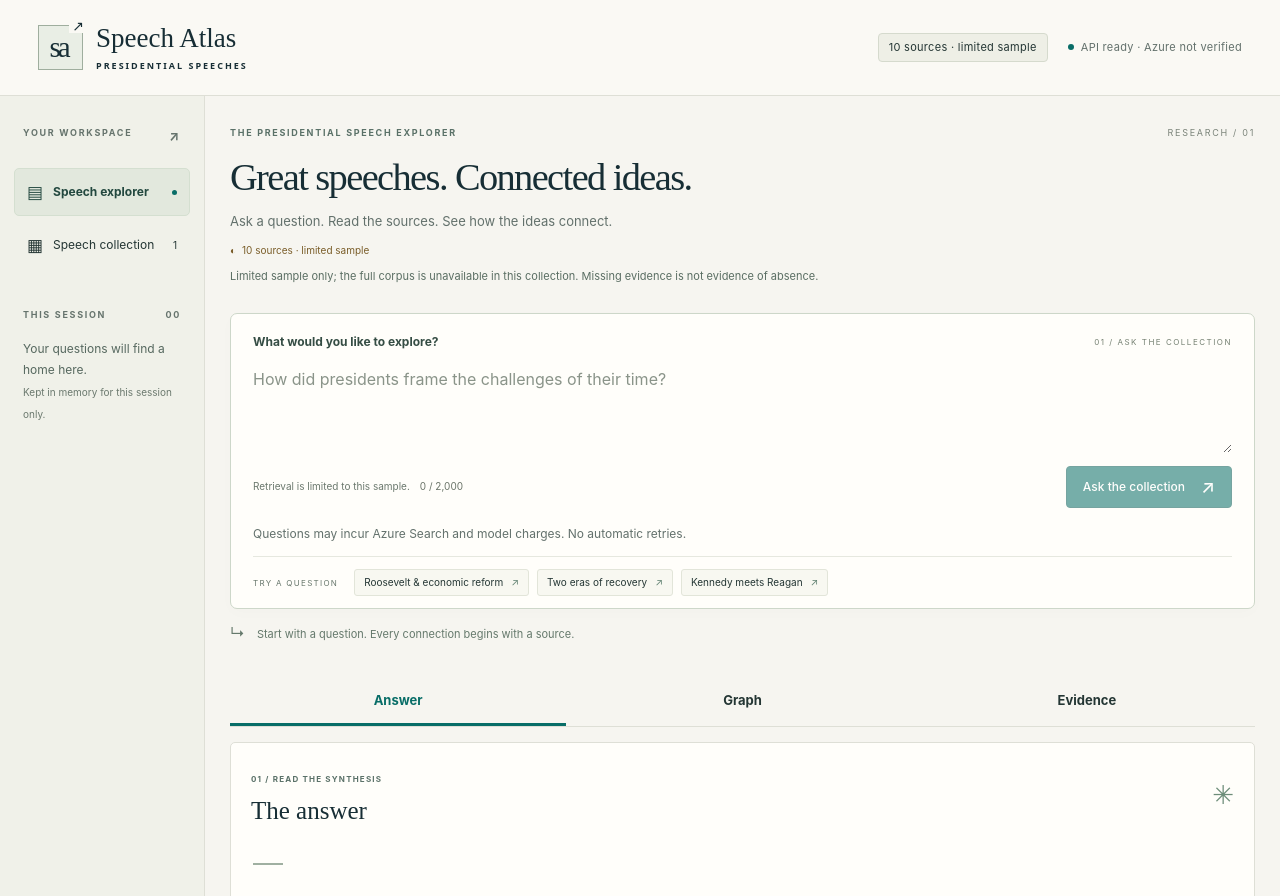
Test: research workspace › keeps partial answers and empty graph explicit
Type "How are the test topics connected?" into the text box labelled "What would you like to explore?".
click(742, 402); type("How are the test topics connected?")  # box [253,352,1232,453]
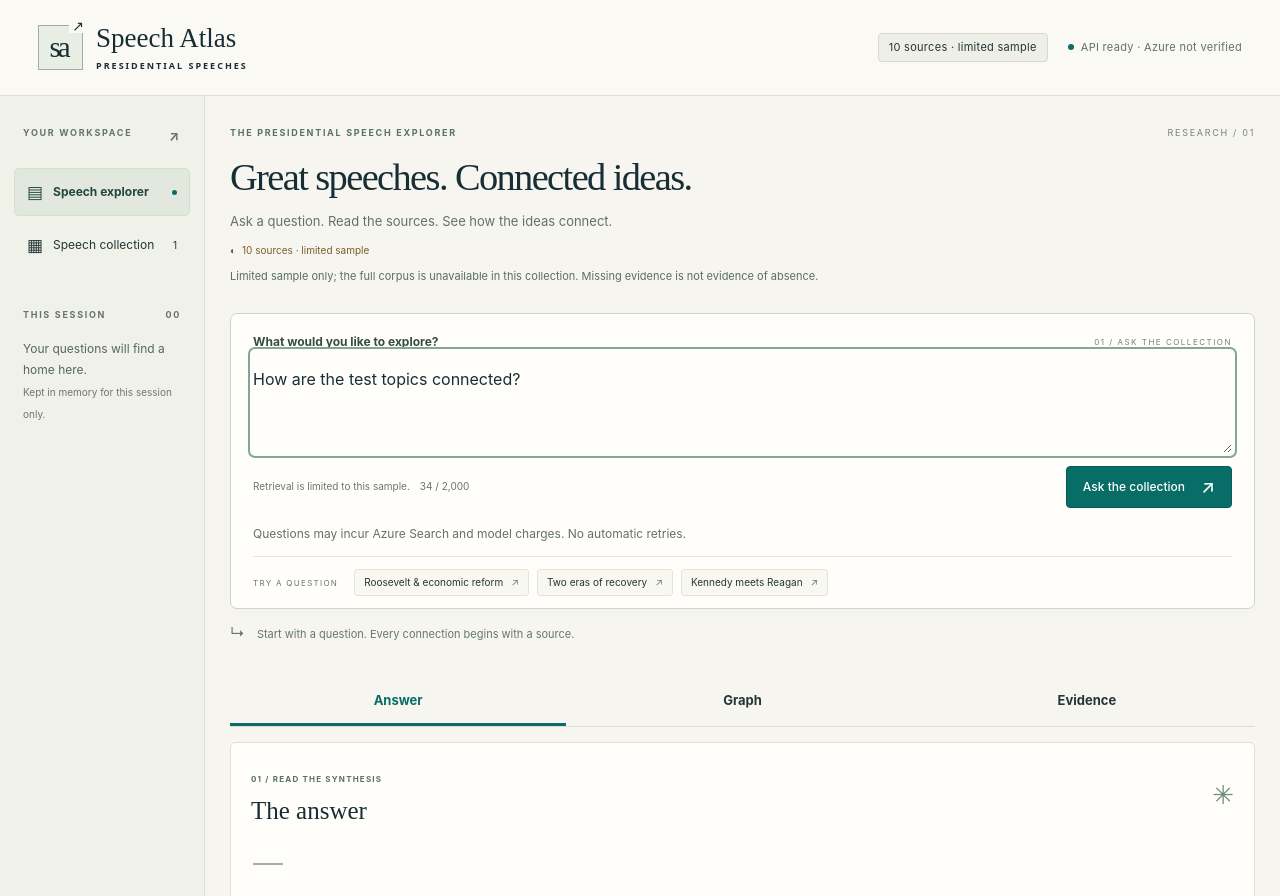
Click the button "Ask the collection ↗".
click(1149, 487)  # box [1066,466,1232,508]
(page scrolled)
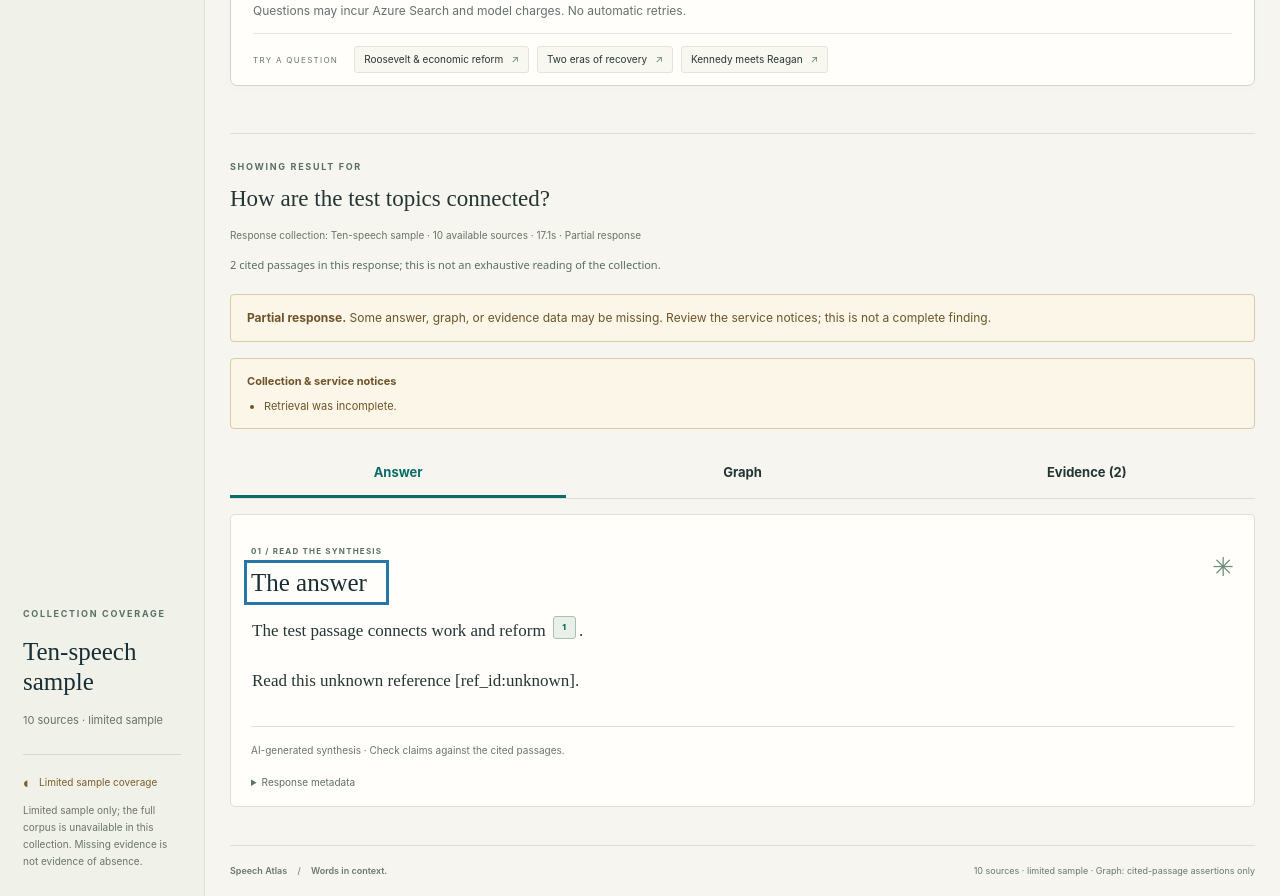
Expected: the text "The test passage connects work and reform 1 ." is shown, [252,616,583,640]
Expected: the text "Partial response." is shown, [247,310,346,324]
Expected: the list item "Retrieval was incomplete." is shown, [264,399,397,413]
Click the tab "Graph".
click(742, 474)  # box [574,449,911,498]
(page scrolled)
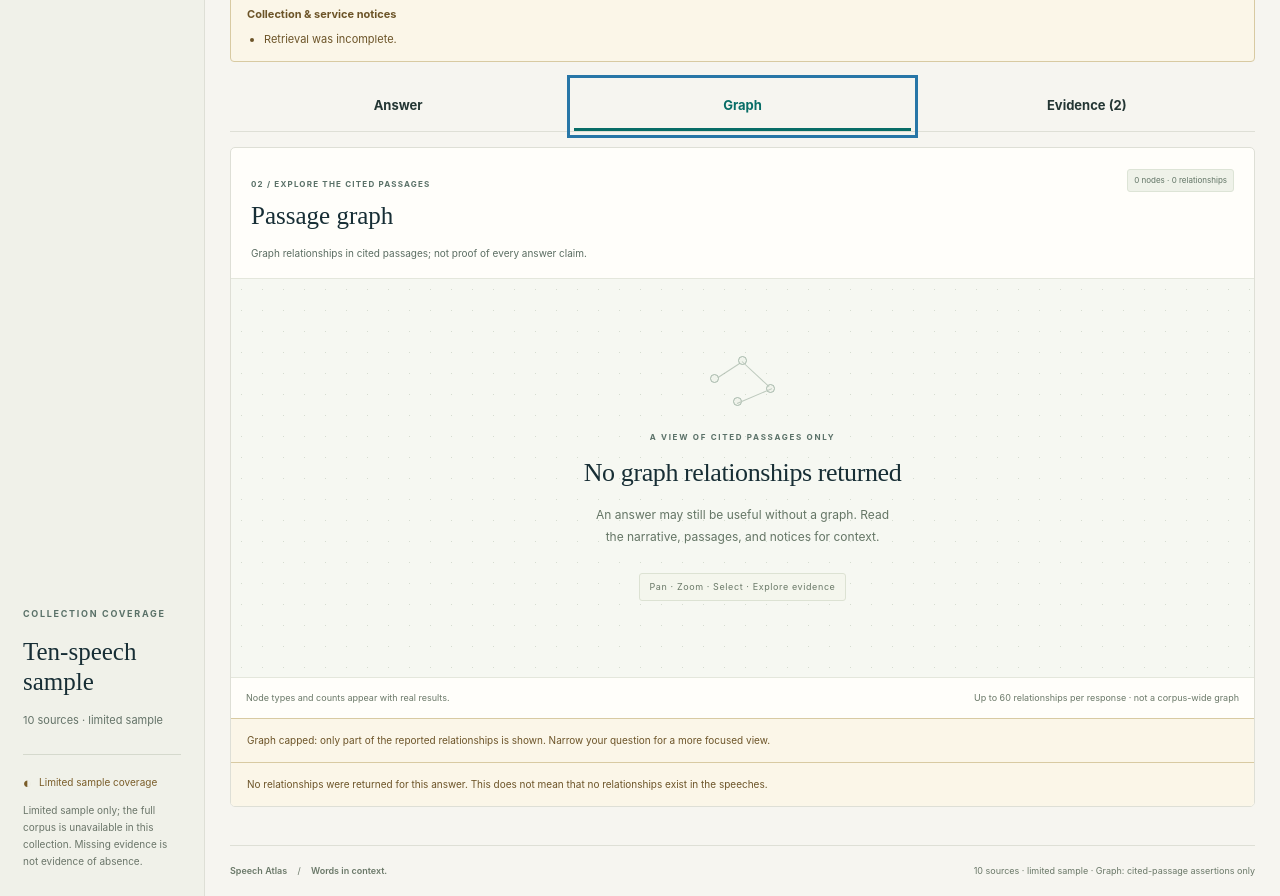
Expected: the heading "No graph relationships returned" is shown, [584,453,901,494]
Expected: the text "Graph capped:" is shown, [247,734,546,746]
Click the tab "Evidence (2)".
click(1087, 107)  # box [919,82,1255,131]
(page scrolled)
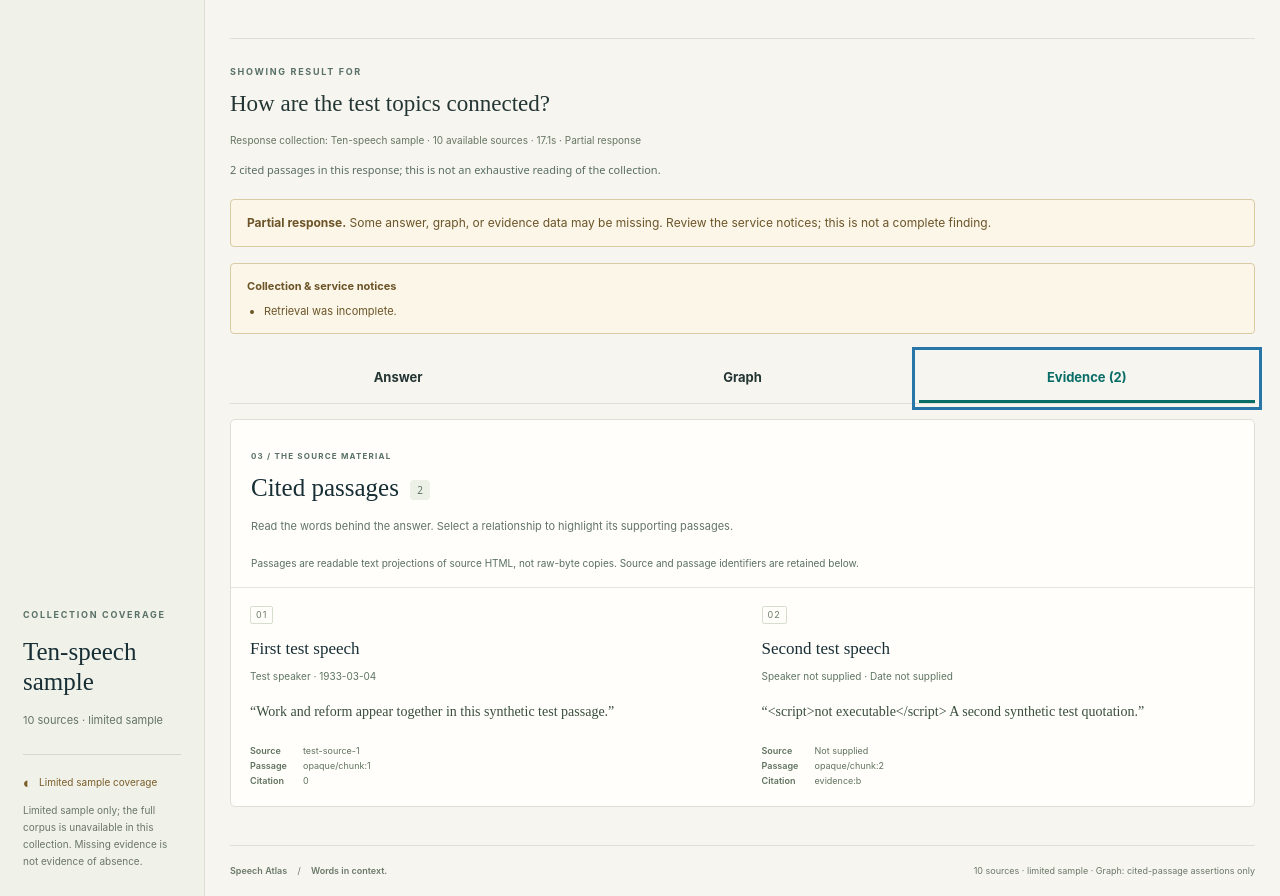
Expected: the element named "Passage 1" is shown, [231,587,742,806]
